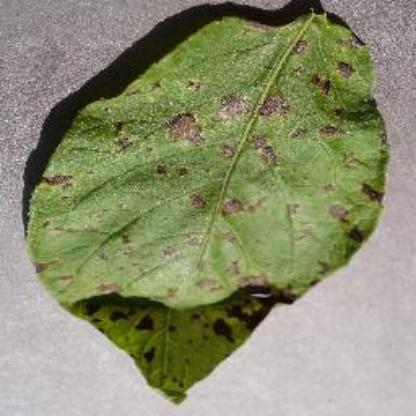Early-Blight: (26, 3, 390, 402)
